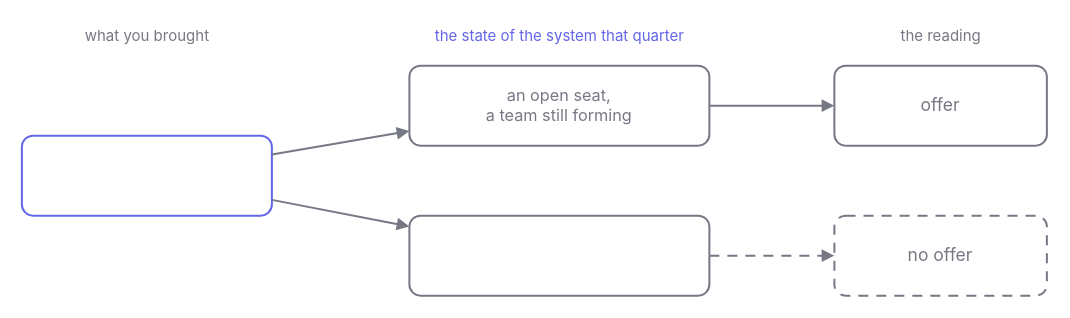
The diagram is 1070 pixels wide and 318 high, and some of its shapes have lost their labels. The shapes that lost their labels are listed below. From the top down, each one's centre as x and y in pixels, then its label:
At pixel 146 175: "the same person, the same answers".
At pixel 559 255: "a freeze, a team that just hired".
